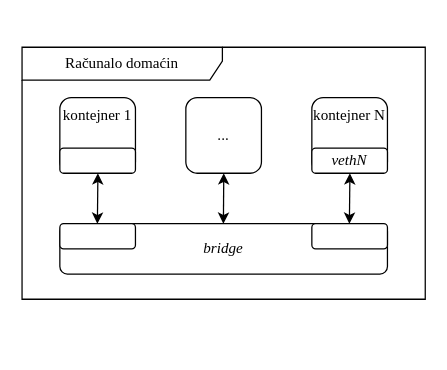
The diagram is 447 pixels wide and 370 high, and some of its shapes have lost their labels. Each missing label, with the centre of its shape:
veth1: (x=97, y=160)
veth1_par: (x=97, y=235)
vethN_par: (x=349, y=235)
